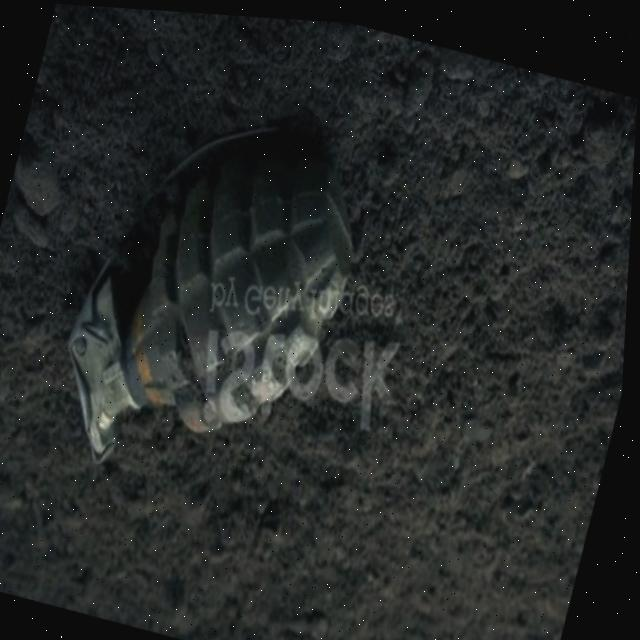grenade: (0, 40, 439, 540)
